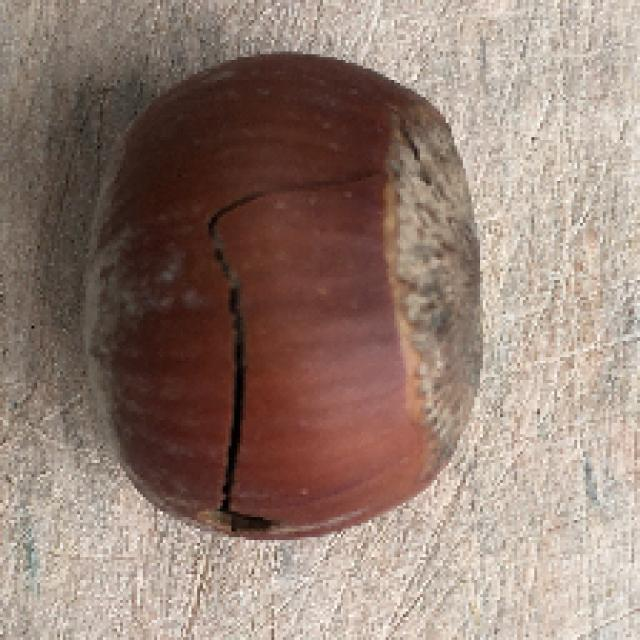damagedHazelnut: (75, 55, 489, 552)
